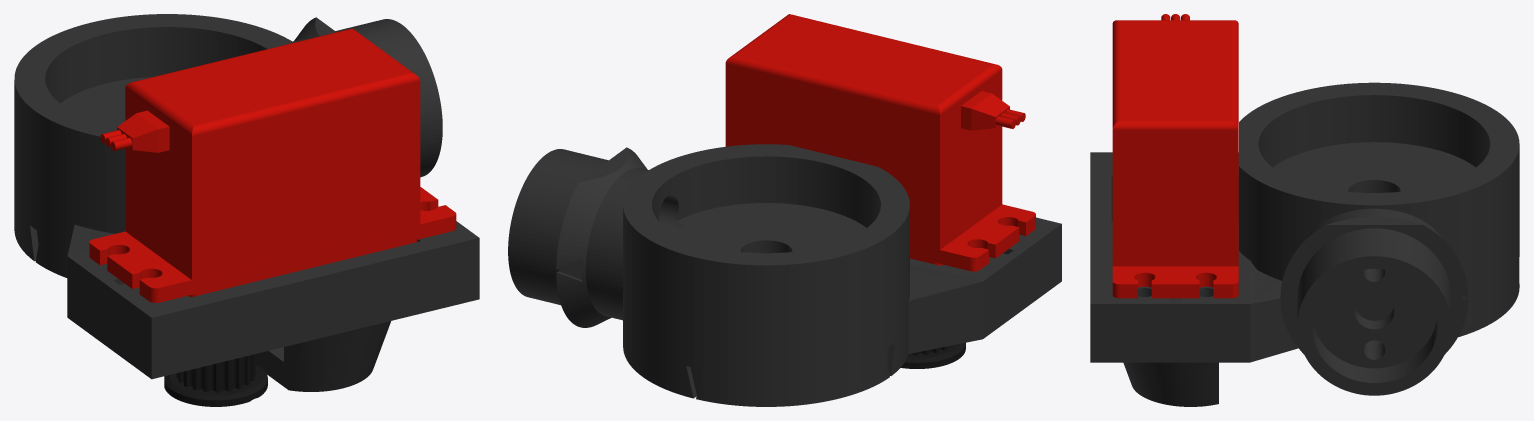
The model's file is hip_br.obj.
The picture shows the model from 3 angles, left to right: view 1: azimuth 30°, elevation 25°; view 2: azimuth 150°, elevation 25°; view 3: azimuth 270°, elevation 25°; orthographic projection. The views are drawn at different scales.
Parts seen in each view (by area): view 1: hip_br_Cylinder.051; view 2: hip_br_Cylinder.051; view 3: hip_br_Cylinder.051.
Boxes of the visible parts, bbox=[...] form: hip_br_Cylinder.051: bbox=[14, 14, 479, 406]; hip_br_Cylinder.051: bbox=[508, 14, 1061, 406]; hip_br_Cylinder.051: bbox=[1090, 14, 1519, 406].
Bounding box in the file's own units: 0.0713 × 0.0519 × 0.0698.
